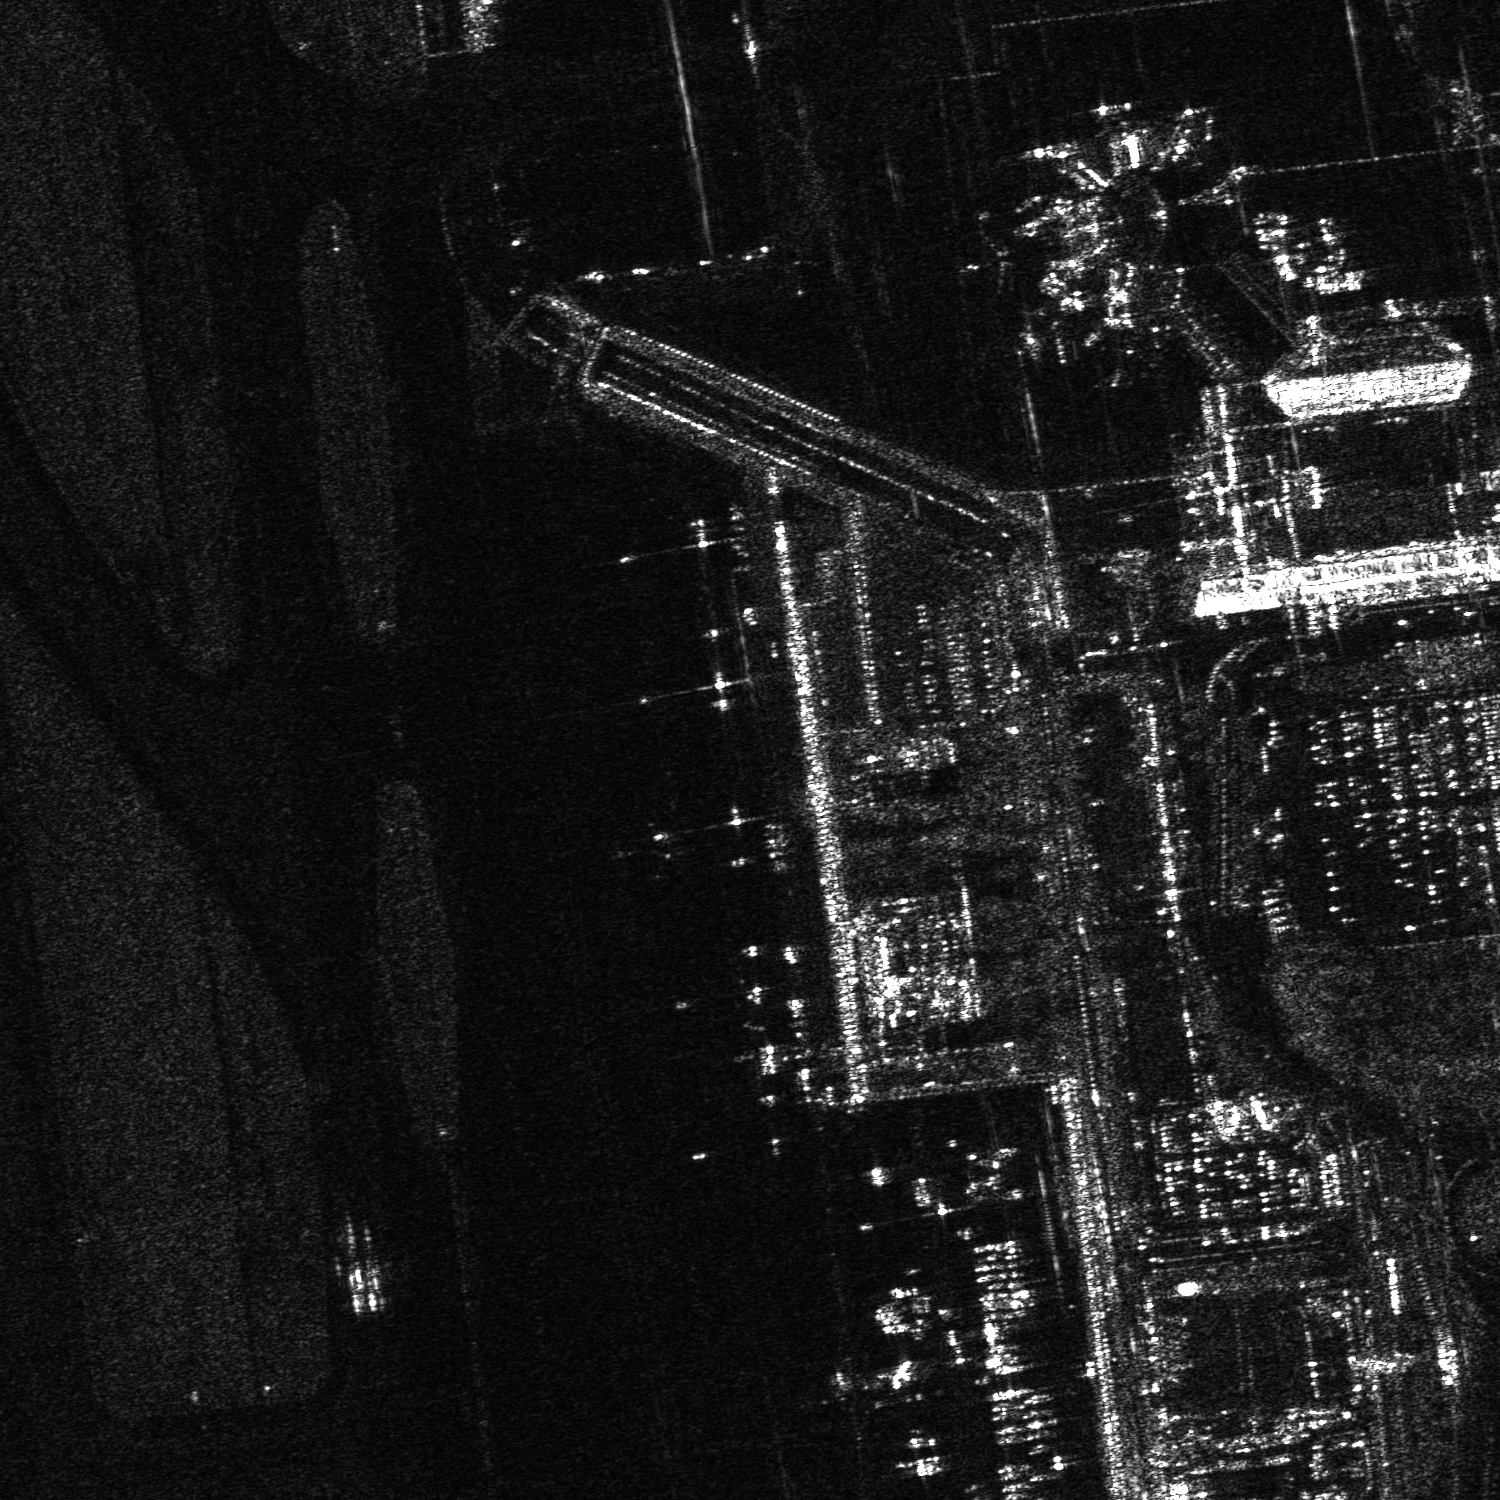A220: (955, 223, 1023, 301)
